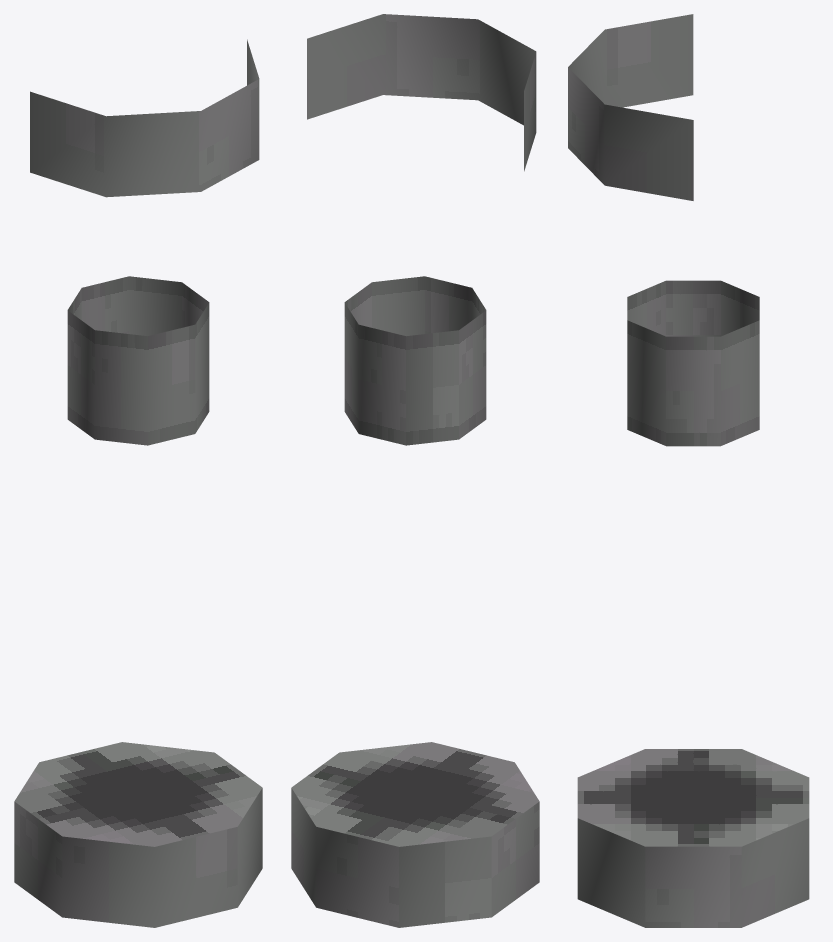
The model's file is ship_component_weapon_s01_l3.fbx.
3 renders of one model, left to right at view 1: azimuth 30°, elevation 25°; view 2: azimuth 150°, elevation 25°; view 3: azimuth 270°, elevation 25°, orthographic.
Visible parts, largest first — view 1: mesh_node; view 2: mesh_node; view 3: mesh_node.
Boxes of the visible parts, x1,y1,x2,y2 form: mesh_node: (14, 39, 262, 927); mesh_node: (291, 14, 539, 927); mesh_node: (568, 14, 809, 927).
Size of the model in its own units: 0.42 by 1.5 by 0.42.
1 material, 1 textured.
